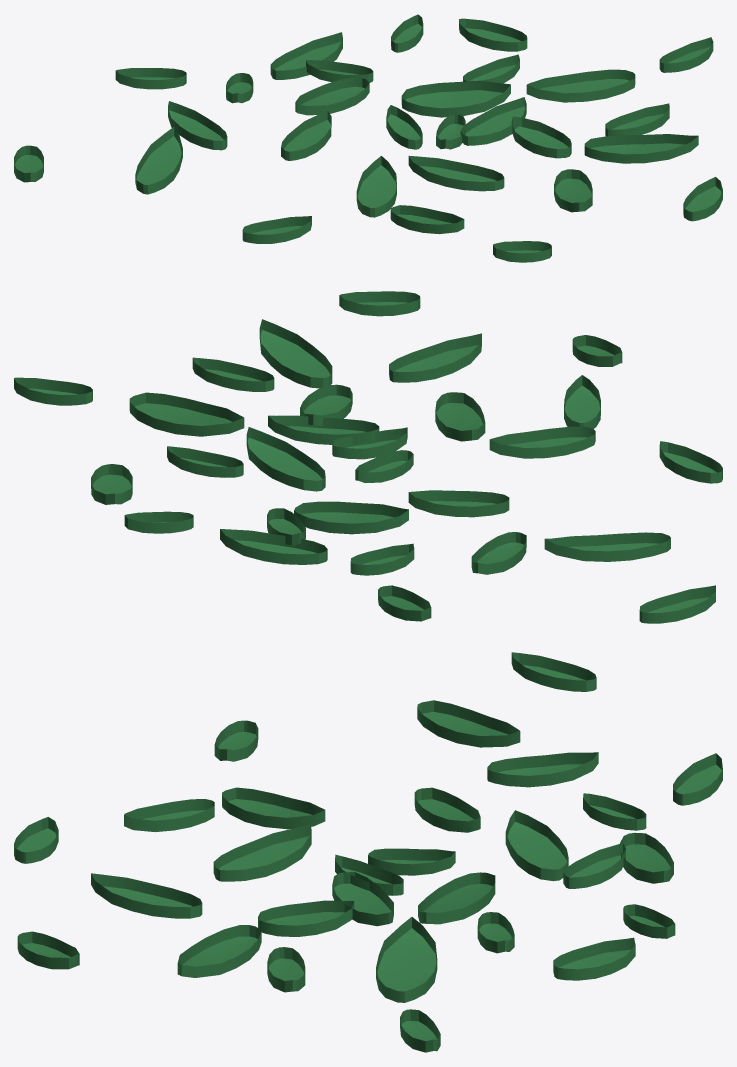
File: leaves_ground_scanden_A_steps.fbx
The picture shows the model from 3 angles, top to bottom: view 1: azimuth 30°, elevation 25°; view 2: azimuth 150°, elevation 25°; view 3: azimuth 270°, elevation 25°; orthographic projection. The views are drawn at different scales.
Parts seen in each view (by area): view 1: leaf_scanden_ground_A5, leaf_scanden_ground_A1, leaf_scanden_ground_A9, leaf_scanden_ground_A4, leaf_scanden_ground_A26, leaf_scanden_ground_A23, leaf_scanden_ground_A17, leaf_scanden_ground_A, leaf_scanden_ground_A18, leaf_scanden_ground_A14, leaf_scanden_ground_A22, leaf_scanden_ground_A8 (+16 smaller); view 2: leaf_scanden_ground_A9, leaf_scanden_ground_A23, leaf_scanden_ground_A1, leaf_scanden_ground_A26, leaf_scanden_ground_A5, leaf_scanden_ground_A2, leaf_scanden_ground_A17, leaf_scanden_ground_A18, leaf_scanden_ground_A, leaf_scanden_ground_A8, leaf_scanden_ground_A4, leaf_scanden_ground_A19 (+16 smaller); view 3: leaf_scanden_ground_A9, leaf_scanden_ground_A4, leaf_scanden_ground_A26, leaf_scanden_ground_A2, leaf_scanden_ground_A23, leaf_scanden_ground_A17, leaf_scanden_ground_A1, leaf_scanden_ground_A14, leaf_scanden_ground_A5, leaf_scanden_ground_A22, leaf_scanden_ground_A24, leaf_scanden_ground_A12 (+16 smaller).
Part boxes in pixels (bbox=[...]): leaf_scanden_ground_A5: bbox=[401, 80, 510, 117]; leaf_scanden_ground_A1: bbox=[584, 134, 698, 163]; leaf_scanden_ground_A9: bbox=[526, 69, 635, 102]; leaf_scanden_ground_A4: bbox=[408, 155, 504, 191]; leaf_scanden_ground_A26: bbox=[135, 127, 182, 194]; leaf_scanden_ground_A23: bbox=[295, 77, 369, 115]; leaf_scanden_ground_A17: bbox=[356, 156, 396, 217]; leaf_scanden_ground_A: bbox=[460, 97, 526, 145]; leaf_scanden_ground_A18: bbox=[270, 32, 342, 79]; leaf_scanden_ground_A14: bbox=[168, 101, 227, 150]; leaf_scanden_ground_A22: bbox=[511, 116, 571, 158]; leaf_scanden_ground_A8: bbox=[281, 110, 331, 160]; leaf_scanden_ground_A9: bbox=[129, 392, 244, 436]; leaf_scanden_ground_A23: bbox=[294, 501, 408, 534]; leaf_scanden_ground_A1: bbox=[259, 319, 332, 388]; leaf_scanden_ground_A26: bbox=[544, 532, 670, 561]; leaf_scanden_ground_A5: bbox=[246, 427, 325, 491]; leaf_scanden_ground_A2: bbox=[389, 333, 481, 382]; leaf_scanden_ground_A17: bbox=[489, 426, 595, 458]; leaf_scanden_ground_A18: bbox=[220, 529, 327, 564]; leaf_scanden_ground_A: bbox=[268, 415, 379, 444]; leaf_scanden_ground_A8: bbox=[408, 490, 509, 517]; leaf_scanden_ground_A4: bbox=[435, 392, 485, 441]; leaf_scanden_ground_A19: bbox=[639, 585, 715, 623]; leaf_scanden_ground_A9: bbox=[376, 917, 437, 1002]; leaf_scanden_ground_A4: bbox=[213, 824, 311, 881]; leaf_scanden_ground_A26: bbox=[417, 700, 520, 747]; leaf_scanden_ground_A2: bbox=[91, 873, 202, 918]; leaf_scanden_ground_A23: bbox=[505, 810, 568, 881]; leaf_scanden_ground_A17: bbox=[222, 787, 325, 829]; leaf_scanden_ground_A1: bbox=[177, 925, 261, 977]; leaf_scanden_ground_A14: bbox=[487, 752, 598, 787]; leaf_scanden_ground_A5: bbox=[418, 872, 495, 924]; leaf_scanden_ground_A22: bbox=[258, 900, 354, 936]; leaf_scanden_ground_A24: bbox=[553, 937, 635, 980]; leaf_scanden_ground_A12: bbox=[124, 799, 214, 832].
Bounding box in the file's own units: 198 × 6.84 × 152.
